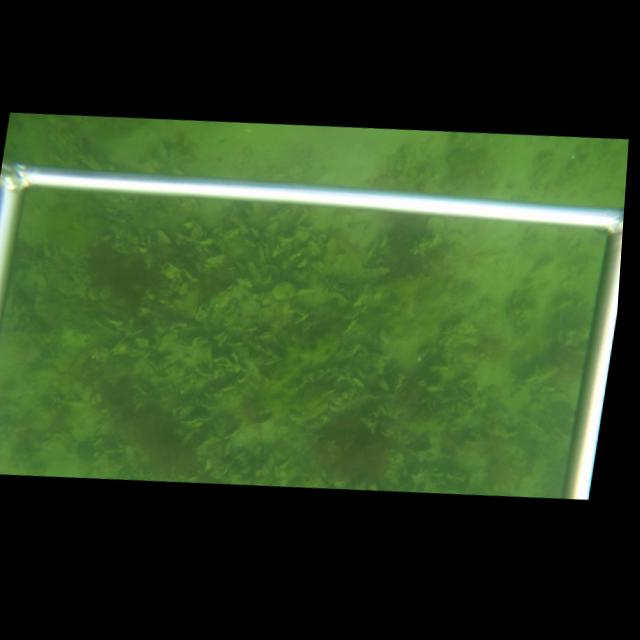Oyster-Closed: (271, 282, 298, 301), (229, 215, 249, 234), (222, 227, 240, 243)
Oyster-Open: (255, 241, 270, 261), (274, 205, 291, 220), (377, 402, 390, 416)
